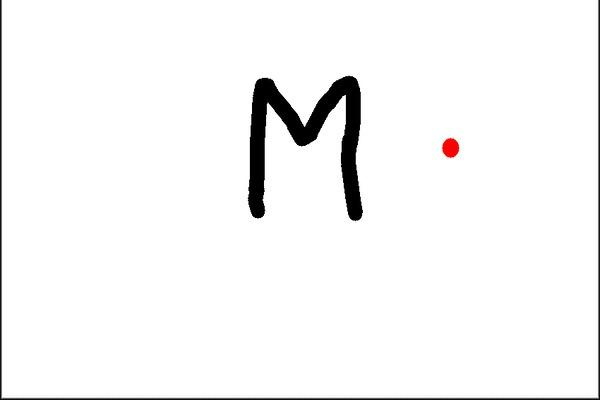M: (244, 69, 364, 222)
